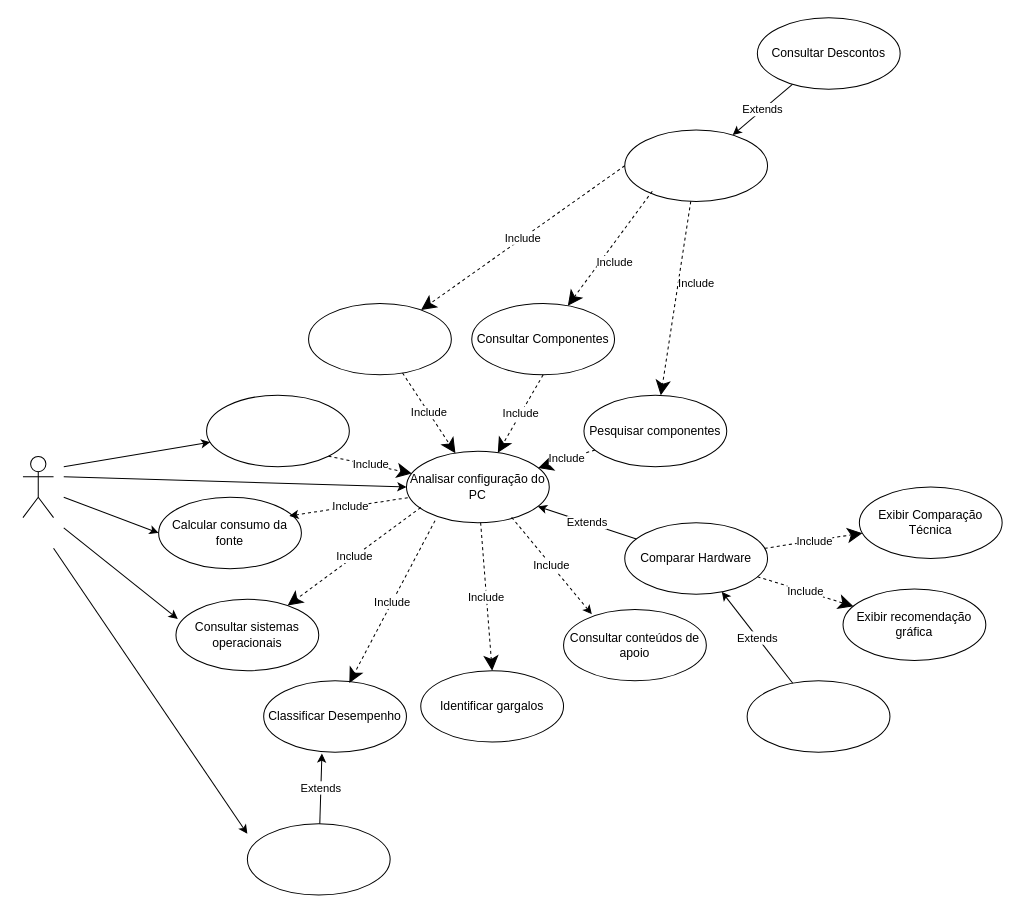
This 1020x913 diagram has some shape labels left out. Here are the shapes that lost their labels. From the top down, the centre of each, then its label:
the point at 696,165: Consultar preços
the point at 379,338: Filtrar componentes
the point at 277,430: Avaliar PC de acordo com oque você precisa
the point at 38,486: Usuário
the point at 818,716: Recomendar Upgrades
the point at 318,859: Benchmark de Jogos
